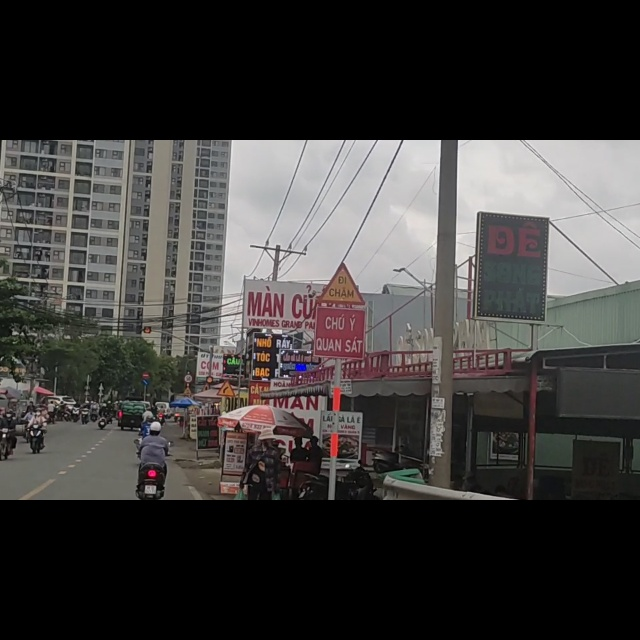bien_cam: (318, 217, 365, 292), (216, 425, 236, 456)
